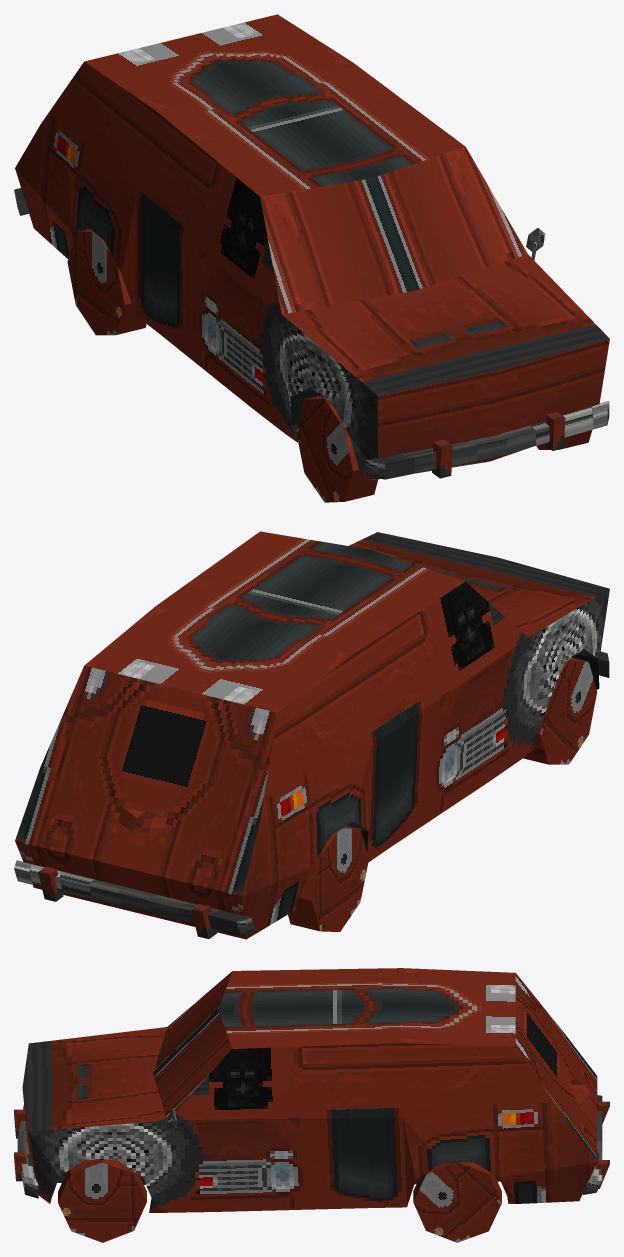
File: car01_red.glb
3 views of the same model, one above another, from view 1: azimuth 30°, elevation 25°; view 2: azimuth 150°, elevation 25°; view 3: azimuth 270°, elevation 25° (orthographic). The views are drawn at different scales.
Visible parts, largest first — view 1: car01_red; view 2: car01_red; view 3: car01_red.
Boxes of the visible parts, x1,y1,x2,y2 form: car01_red: (14, 14, 609, 502); car01_red: (14, 531, 609, 939); car01_red: (14, 968, 609, 1242).
Size of the model in its own units: 2.56 by 2.17 by 6.15.
Materials: 1 (1 with a texture image).
